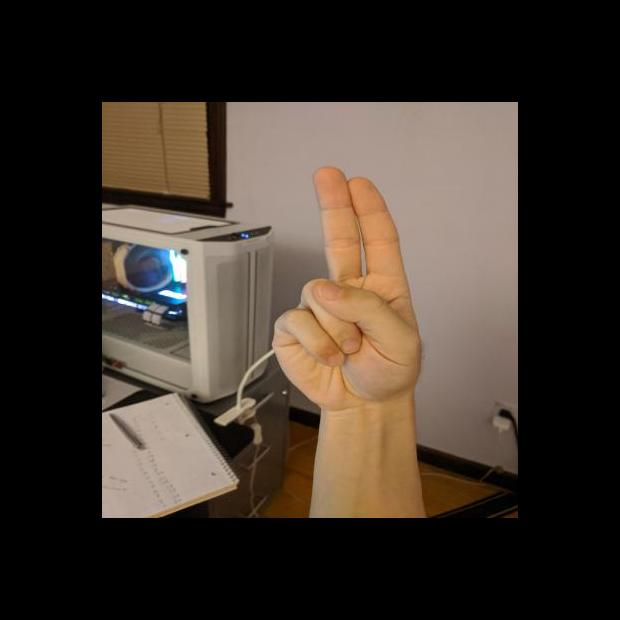T: (268, 163, 429, 414)
